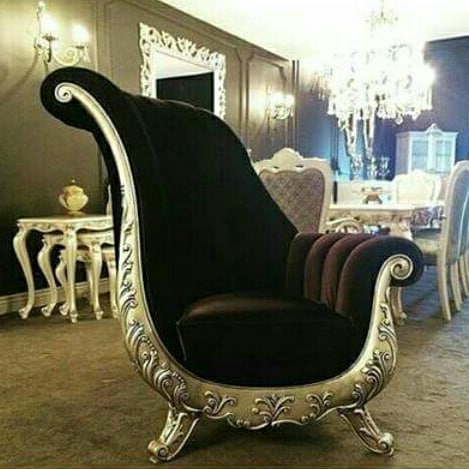Carving Chair: (44, 61, 408, 455)
